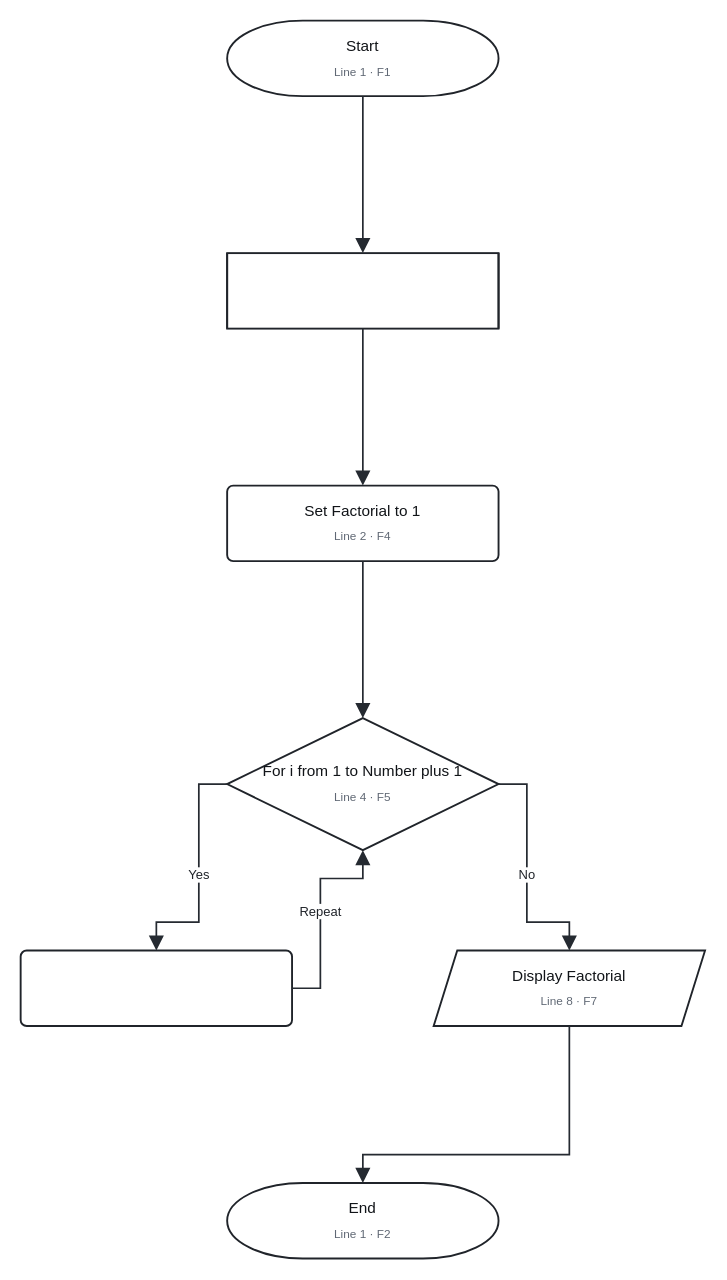
Image size: 727x1280. Some labels were removed from this diagram. The shapes that lost their labels are listed below. From the top down, each one's centre as x and y in pixels, then its label:
At (362,290): "Run function unnamed_function with Number Line 1 · F3".
At (155,987): "Set Factorial to Factorial multiplied by i Line 5 · F6".
